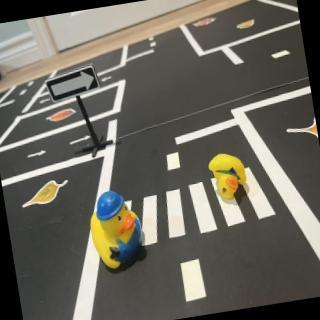duck_regular: (209, 150, 253, 206)
duck_specialty: (84, 187, 149, 273)
road_crosswalk: (123, 163, 283, 252)
road_oneway: (70, 134, 95, 147), (24, 150, 51, 162), (100, 71, 118, 87), (39, 97, 55, 107)
sign_oneway_right: (46, 62, 106, 106)
